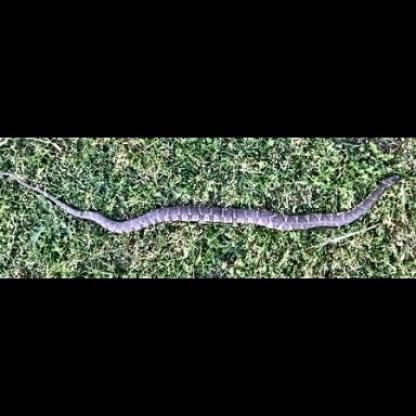Snake: (8, 164, 402, 244)
